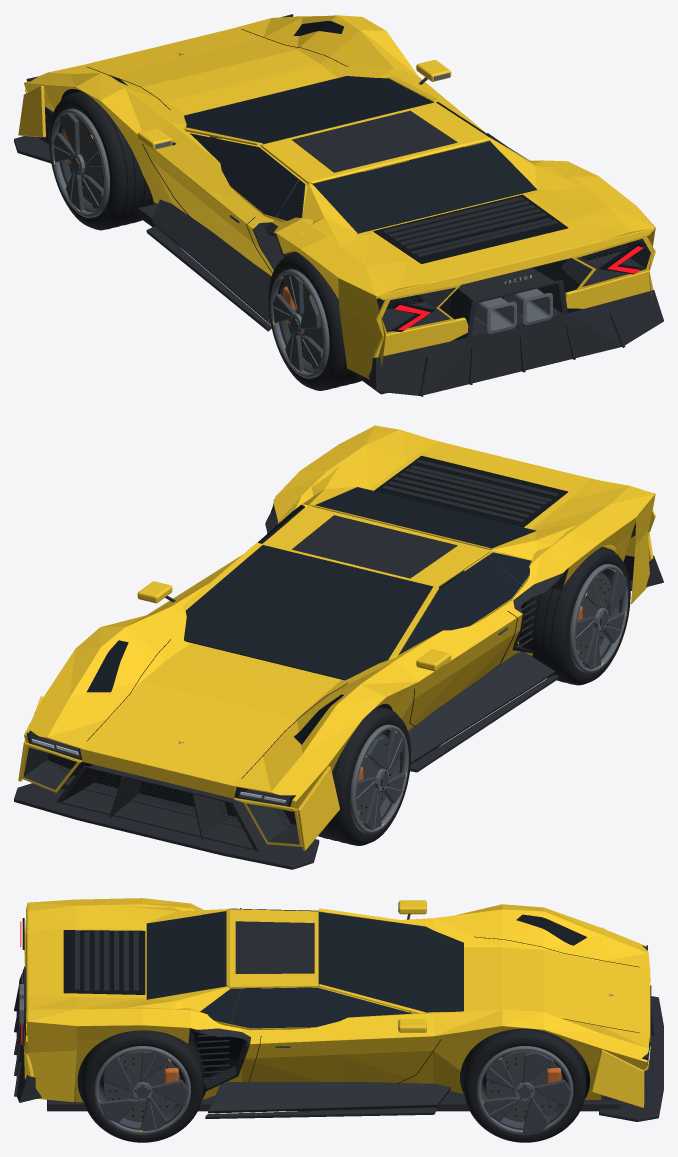
File: Vector_V04.fbx
The picture shows the model from 3 angles, top to bottom: view 1: azimuth 30°, elevation 25°; view 2: azimuth 150°, elevation 25°; view 3: azimuth 270°, elevation 25°; orthographic projection. The views are drawn at different scales.
Parts seen in each view (by area): view 1: V04 primary body.001, Integrated carbon diffuser shell.001, Rear engine glazing.001, V04 windscreen.001, Inset roof carbon.001, Front tyre.002, Sculpted carbon rocker.002, Side glazing.002, V04 painted roof.001, Engine hatch recessed tray.001, Rear tyre.002, Rear quarter wrap.002 (+28 smaller); view 2: V04 primary body.001, V04 windscreen.001, Inset roof carbon.001, Rear engine glazing.001, Sculpted carbon rocker.002, Side glazing.002, Rear tyre.002, Swept carbon front splitter.001, Central wedge mouth deep duct walls.001, V04 painted roof.001, Front tyre.002, Engine hatch recessed tray.001 (+24 smaller); view 3: V04 primary body.001, V04 windscreen.001, Sculpted carbon rocker.003, Rear engine glazing.001, Side glazing.003, Front tyre.003, Rear tyre.003, Inset roof carbon.001, Rear quarter wrap.003, Engine hatch recessed tray.001, V04 painted roof.001, Swept carbon front splitter.001 (+33 smaller).
Boxes of the visible parts, bbox=[...] form: V04 primary body.001: bbox=[24, 15, 654, 340]; Integrated carbon diffuser shell.001: bbox=[368, 290, 663, 395]; Rear engine glazing.001: bbox=[313, 141, 536, 233]; V04 windscreen.001: bbox=[184, 76, 433, 144]; Inset roof carbon.001: bbox=[292, 110, 457, 172]; Front tyre.002: bbox=[49, 91, 154, 230]; Sculpted carbon rocker.002: bbox=[152, 199, 271, 324]; Side glazing.002: bbox=[190, 133, 305, 220]; V04 painted roof.001: bbox=[260, 102, 489, 183]; Engine hatch recessed tray.001: bbox=[373, 194, 567, 263]; Rear tyre.002: bbox=[269, 252, 361, 390]; Rear quarter wrap.002: bbox=[338, 278, 385, 379]; V04 primary body.001: bbox=[24, 425, 654, 811]; V04 windscreen.001: bbox=[184, 545, 433, 680]; Inset roof carbon.001: bbox=[292, 515, 457, 578]; Rear engine glazing.001: bbox=[313, 487, 536, 549]; Sculpted carbon rocker.002: bbox=[408, 651, 555, 763]; Side glazing.002: bbox=[399, 552, 531, 654]; Rear tyre.002: bbox=[518, 547, 629, 685]; Swept carbon front splitter.001: bbox=[14, 783, 319, 869]; Central wedge mouth deep duct walls.001: bbox=[62, 764, 262, 848]; V04 painted roof.001: bbox=[262, 505, 490, 586]; Front tyre.002: bbox=[318, 706, 410, 845]; Engine hatch recessed tray.001: bbox=[374, 455, 567, 527]; V04 primary body.001: bbox=[28, 898, 650, 1102]; V04 windscreen.001: bbox=[318, 912, 463, 1012]; Sculpted carbon rocker.003: bbox=[208, 1082, 450, 1113]; Rear engine glazing.001: bbox=[146, 911, 226, 999]; Side glazing.003: bbox=[200, 987, 412, 1028]; Front tyre.003: bbox=[464, 1028, 586, 1142]; Rear tyre.003: bbox=[81, 1030, 203, 1142]; Inset roof carbon.001: bbox=[235, 921, 314, 973]; Rear quarter wrap.003: bbox=[24, 1021, 76, 1102]; Engine hatch recessed tray.001: bbox=[63, 930, 145, 994]; V04 painted roof.001: bbox=[229, 909, 318, 988]; Swept carbon front splitter.001: bbox=[599, 996, 663, 1121].
Size of the model in its own units: 246 by 117 by 510.
